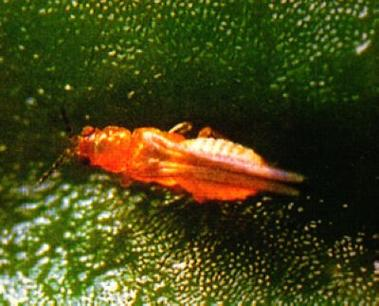Thripidae: (34, 104, 308, 207)
